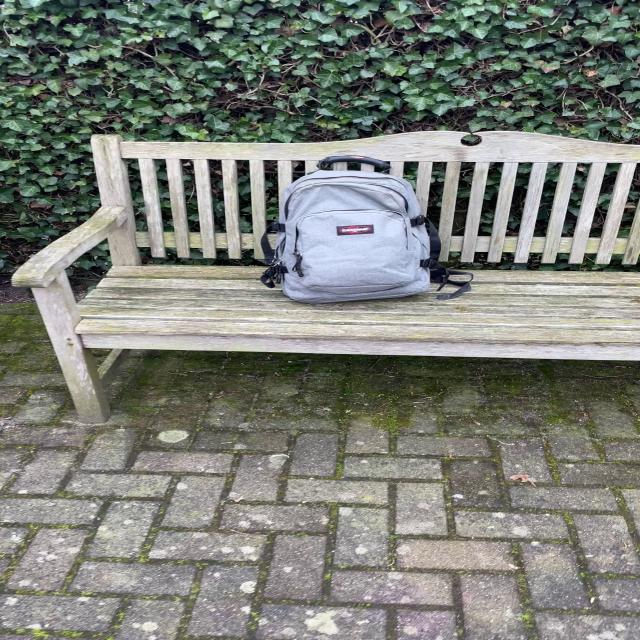backpack: (258, 152, 446, 307)
